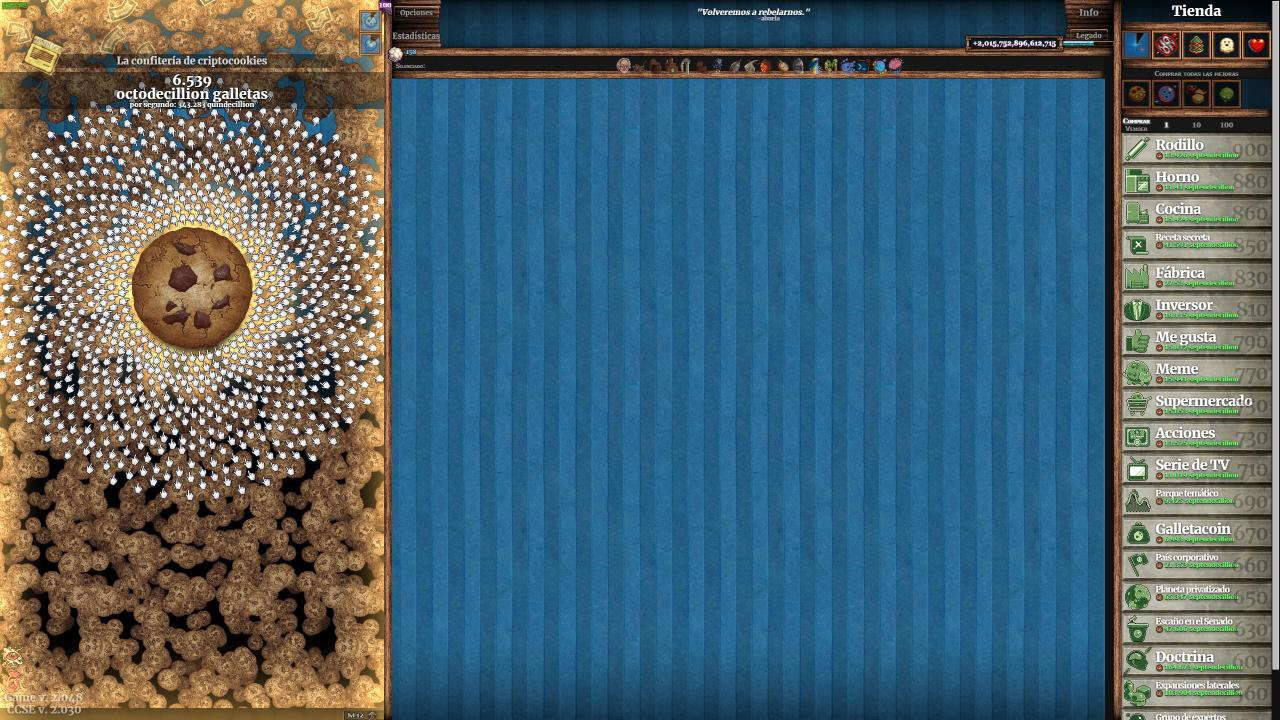GoldenCartridge: (21, 32, 66, 77)
